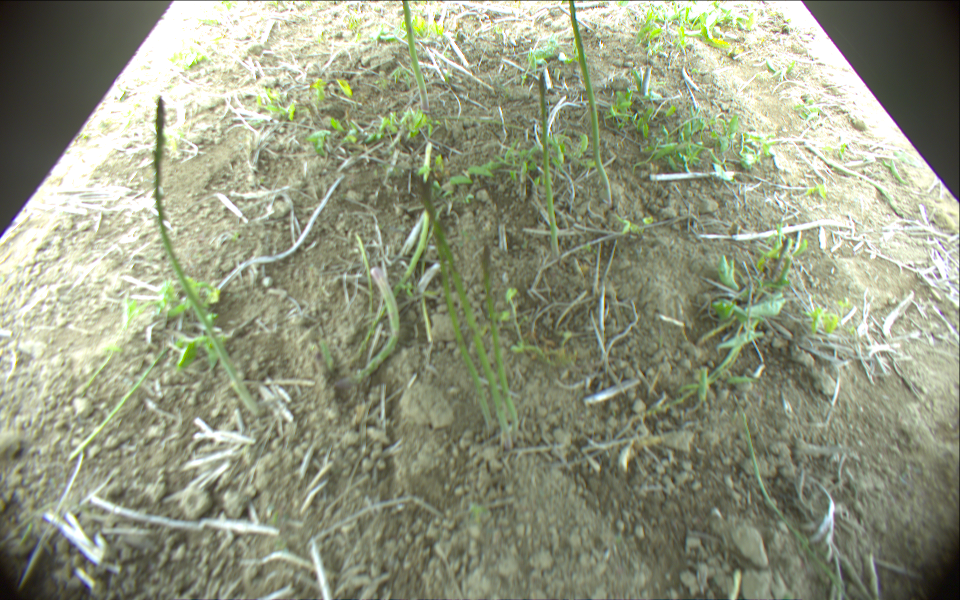aspa: (153, 97, 263, 416), (415, 173, 513, 448), (354, 136, 434, 358), (430, 213, 491, 425), (567, 1, 613, 205), (478, 239, 518, 436), (358, 268, 402, 382), (536, 68, 559, 260), (402, 1, 431, 114)
